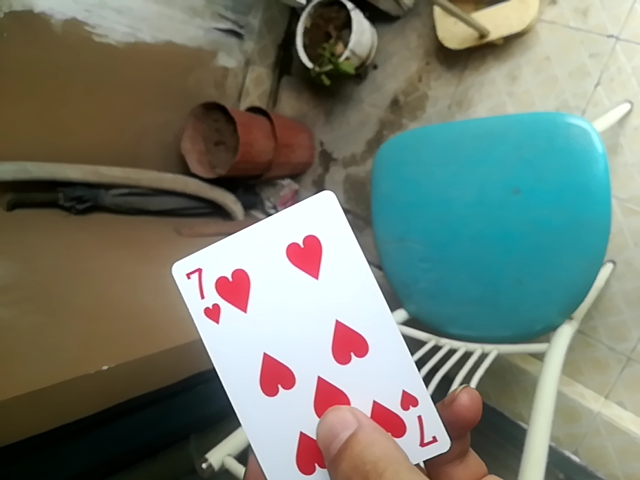hx 7: (168, 188, 442, 477)
